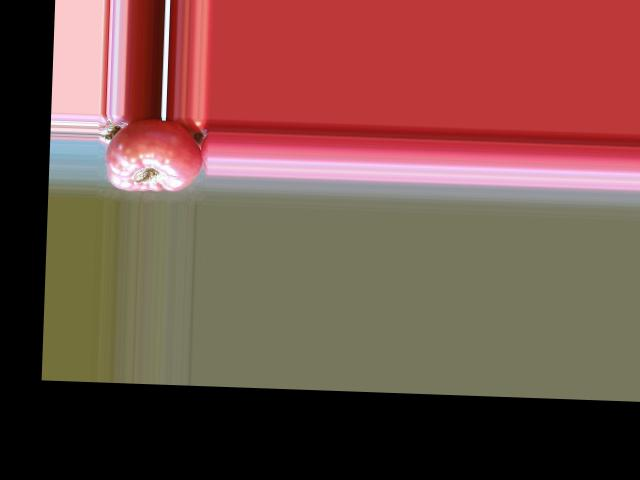tomato: (104, 117, 205, 193)
